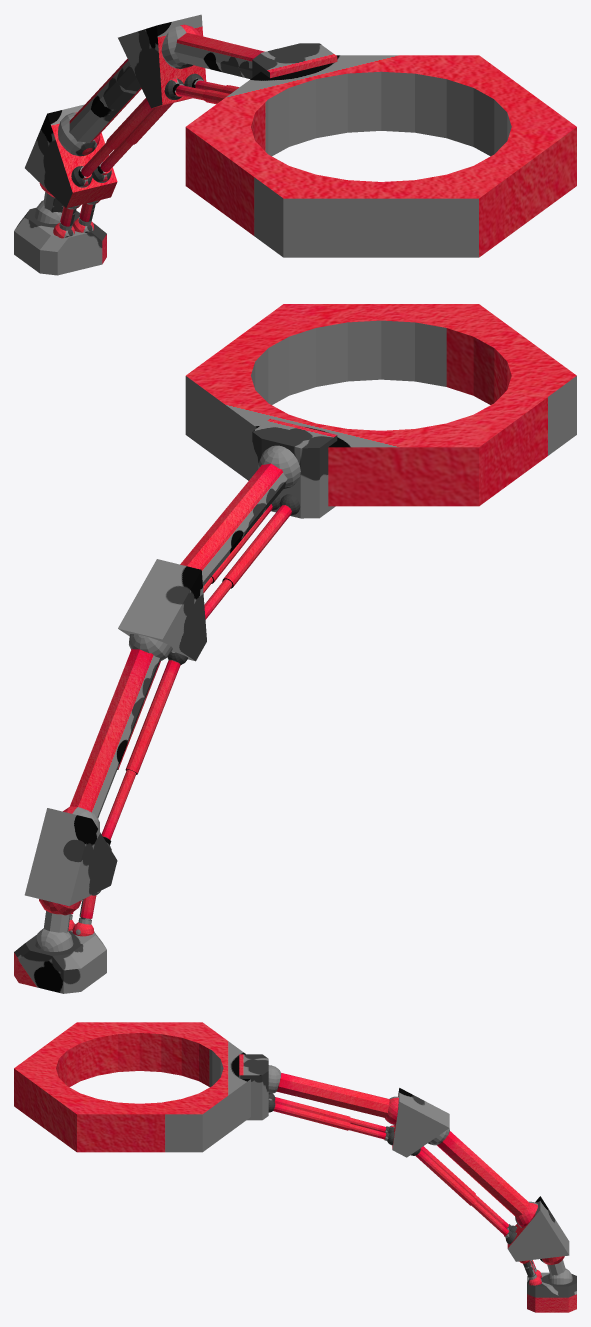
Rendered from crane_yard.glb.
3 views of the same model, one above another, from view 1: azimuth 30°, elevation 25°; view 2: azimuth 150°, elevation 25°; view 3: azimuth 270°, elevation 25° (orthographic). The views are drawn at different scales.
Parts seen in each view (by area): view 1: Cylinder; view 2: Cylinder; view 3: Cylinder.
Part boxes in pixels (bbox=[...]): Cylinder: bbox=[14, 14, 576, 275]; Cylinder: bbox=[14, 304, 576, 993]; Cylinder: bbox=[14, 1022, 576, 1312].
Bounding box in the file's own units: 15.56 × 18.71 × 40.21.
1 material, 1 textured.
